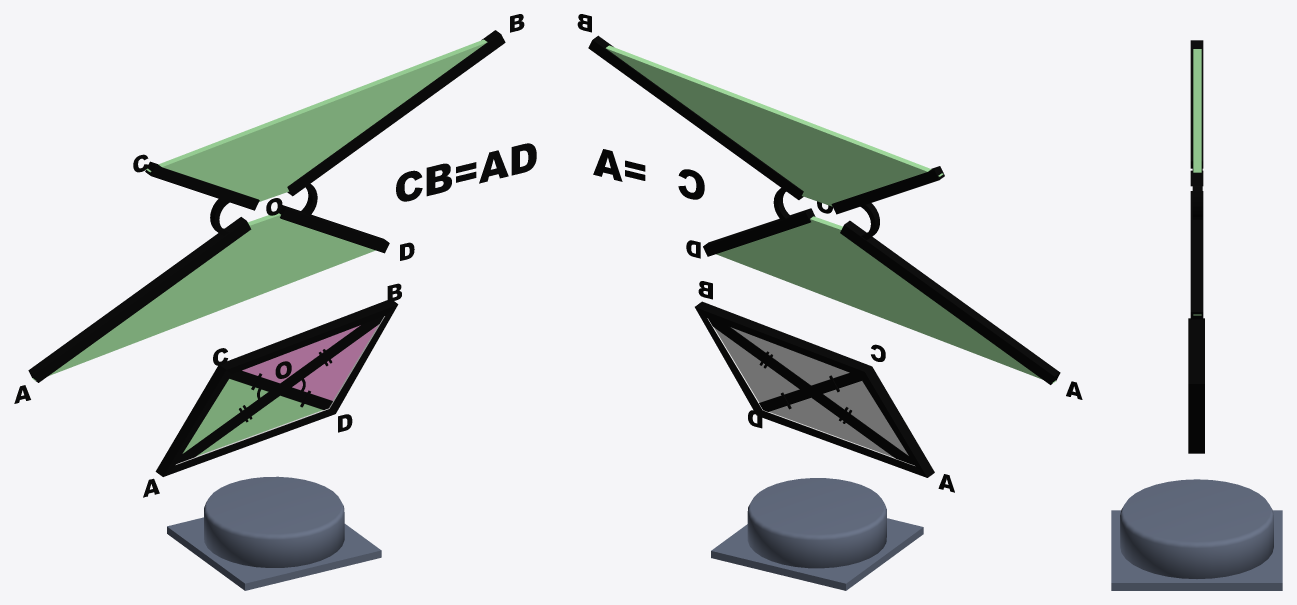
3 views of the same model, side by side, from view 1: azimuth 30°, elevation 25°; view 2: azimuth 150°, elevation 25°; view 3: azimuth 270°, elevation 25° (orthographic). The views are drawn at different scales.
Visible parts, largest first — view 1: Cube, Cube.001, Cube.015, Cube.014, Cube.012, Cube.013, Text.010, Cube.003, Cube.011, Cube.010, Cube.002; view 2: Cube, Cube.001, Cube.015, Cube.014, Cube.012, Cube.013, Cube.003, Cube.011, Cube.010, Text.010, Cube.002; view 3: Cube, Cube.001, Cube.011, Cube.015, Cube.010, Circle.003.
Part boxes in pixels (x1,y1,x2,y2): Cube: [167, 476, 381, 590]; Cube.001: [155, 300, 398, 476]; Cube.015: [146, 39, 487, 201]; Cube.014: [32, 213, 375, 380]; Cube.012: [28, 217, 251, 382]; Cube.013: [287, 30, 505, 196]; Text.010: [396, 143, 536, 201]; Cube.003: [176, 316, 383, 463]; Cube.011: [279, 205, 389, 253]; Cube.010: [145, 161, 259, 210]; Cube.002: [229, 370, 332, 409]; Cube: [711, 478, 923, 590]; Cube.001: [695, 301, 934, 477]; Cube.015: [606, 45, 943, 206]; Cube.014: [716, 216, 1055, 383]; Cube.012: [840, 220, 1060, 384]; Cube.013: [588, 35, 803, 199]; Cube.003: [708, 318, 914, 465]; Cube.011: [703, 208, 815, 256]; Cube.010: [831, 166, 944, 214]; Text.010: [593, 149, 704, 199]; Cube.002: [759, 373, 861, 411]; Cube: [1111, 479, 1282, 590]; Cube.001: [1188, 318, 1204, 453]; Cube.011: [1190, 191, 1203, 319]; Cube.015: [1193, 49, 1201, 172]; Cube.010: [1190, 40, 1203, 168]; Circle.003: [1192, 185, 1202, 219].
Size of the model in its own units: 35.02 by 30.46 by 9.09.
